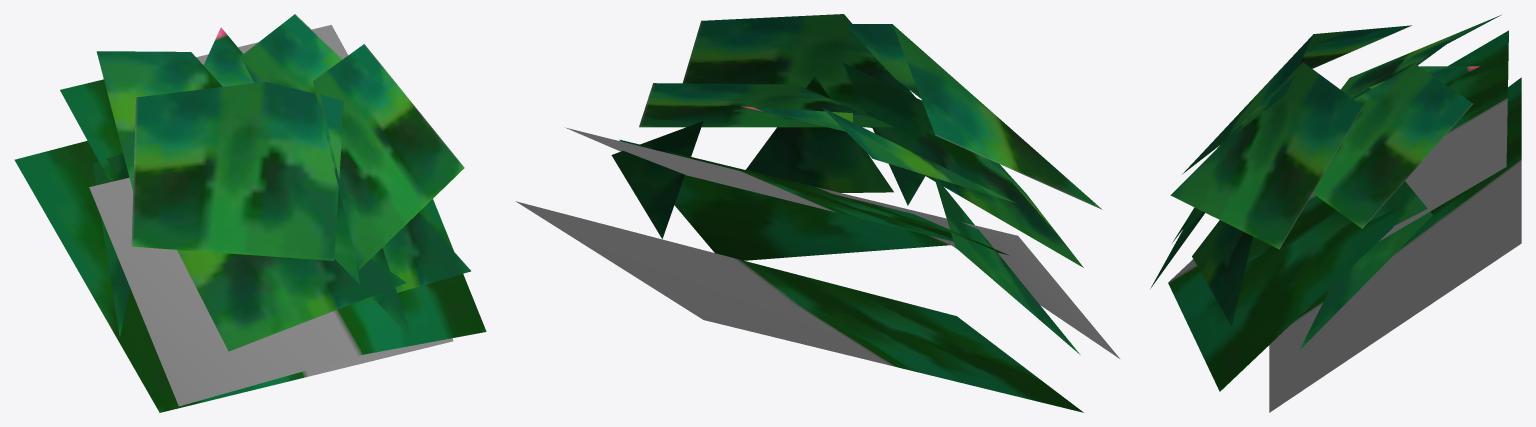
File: fg_bushA_2.dae
The picture shows the model from 3 angles, left to right: view 1: azimuth 30°, elevation 25°; view 2: azimuth 150°, elevation 25°; view 3: azimuth 270°, elevation 25°; orthographic projection. The views are drawn at different scales.
Visible parts, largest first — view 1: fg_bushA_2; view 2: fg_bushA_2; view 3: fg_bushA_2.
Boxes of the visible parts, x1,y1,x2,y2 form: fg_bushA_2: [14, 14, 486, 412]; fg_bushA_2: [515, 14, 1119, 412]; fg_bushA_2: [1150, 15, 1521, 412].
Bounding box in the file's own units: 42.31 × 33.77 × 38.68.
Materials: 1 (1 with a texture image).
